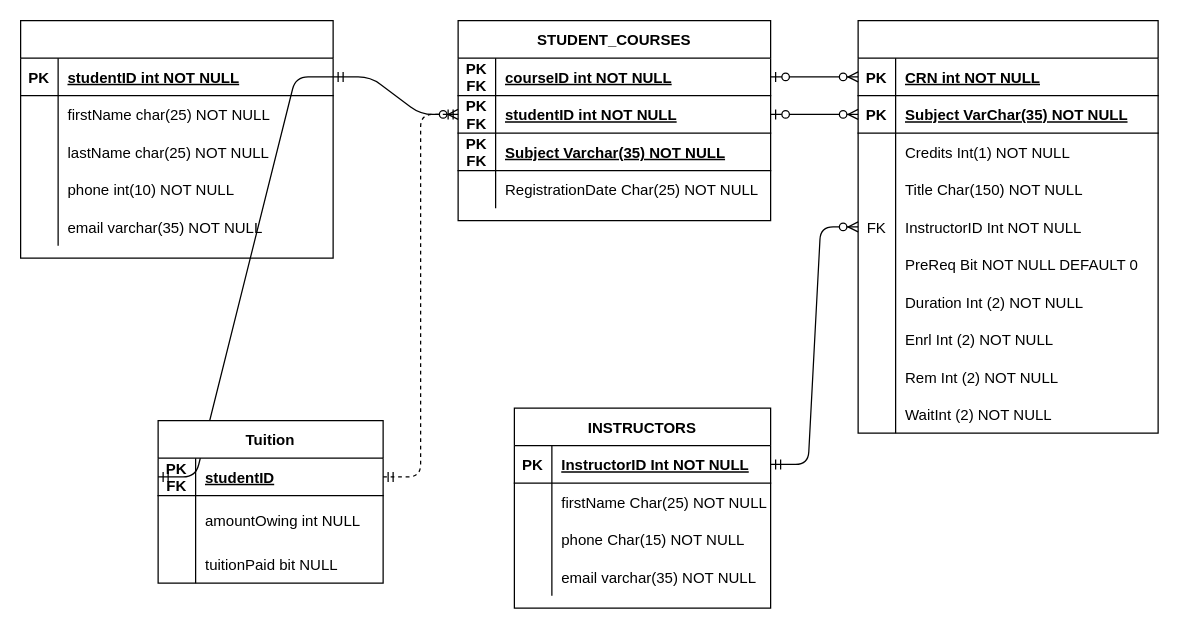
The diagram is 1179 pixels wide and 629 high, and some of its shapes have lost their labels. Each missing label, with the box of its shape:
COURSES: (857, 19, 1158, 433)
STUDENTS: (19, 19, 333, 258)
